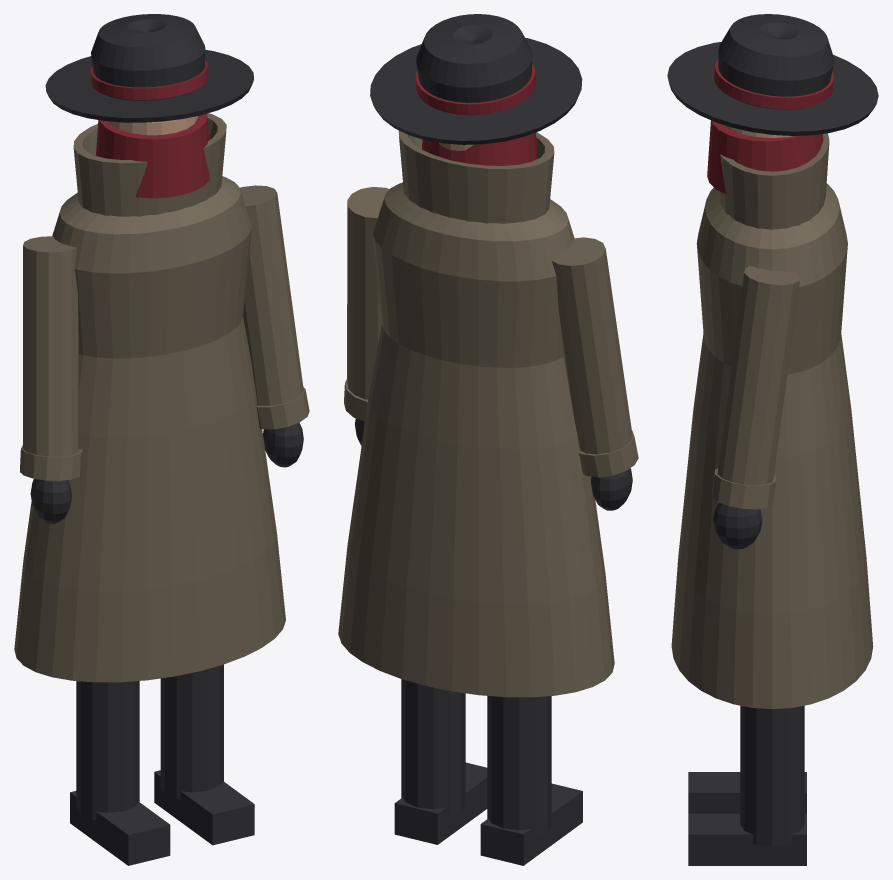
The model's file is NPC_Informant.fbx.
3 views of the same model, side by side, from view 1: azimuth 30°, elevation 25°; view 2: azimuth 150°, elevation 25°; view 3: azimuth 270°, elevation 25° (orthographic).
Visible parts, largest first — view 1: Wren_Coat, Wren_Legs, Wren_Fedora, Wren_Scarf, Wren_Gloves, Wren_HatBand, Wren_Head; view 2: Wren_Coat, Wren_Legs, Wren_Fedora, Wren_Scarf, Wren_HatBand, Wren_Gloves; view 3: Wren_Coat, Wren_Fedora, Wren_Legs, Wren_Scarf, Wren_Gloves, Wren_HatBand.
Part boxes in pixels (x1,y1,x2,y2): Wren_Coat: (14, 113, 309, 682); Wren_Legs: (70, 664, 254, 865); Wren_Fedora: (45, 14, 253, 122); Wren_Scarf: (96, 113, 209, 198); Wren_Gloves: (30, 422, 303, 523); Wren_HatBand: (90, 60, 208, 99); Wren_Head: (107, 116, 197, 135); Wren_Coat: (338, 130, 638, 697); Wren_Legs: (394, 679, 582, 865); Wren_Fedora: (370, 14, 582, 144); Wren_Scarf: (421, 132, 537, 165); Wren_HatBand: (415, 63, 535, 115); Wren_Gloves: (355, 418, 632, 510); Wren_Coat: (671, 133, 873, 709); Wren_Fedora: (667, 14, 878, 135); Wren_Legs: (688, 705, 806, 865); Wren_Scarf: (707, 120, 823, 194); Wren_Gloves: (713, 502, 762, 549); Wren_HatBand: (714, 59, 833, 108).
Bounding box in the file's own units: 0.6682 × 1.8 × 0.4276.
